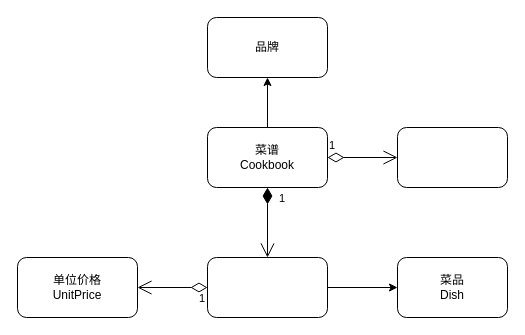
The diagram is 525 pixels wide and 335 high, and some of its shapes have lost their labels. The shapes that lost their labels are listed below. From the top down, each one's centre as x and y in pixels, then its label:
At (x=452, y=157): "适用门店".
At (x=267, y=287): "菜谱菜品 CookbookDish".
